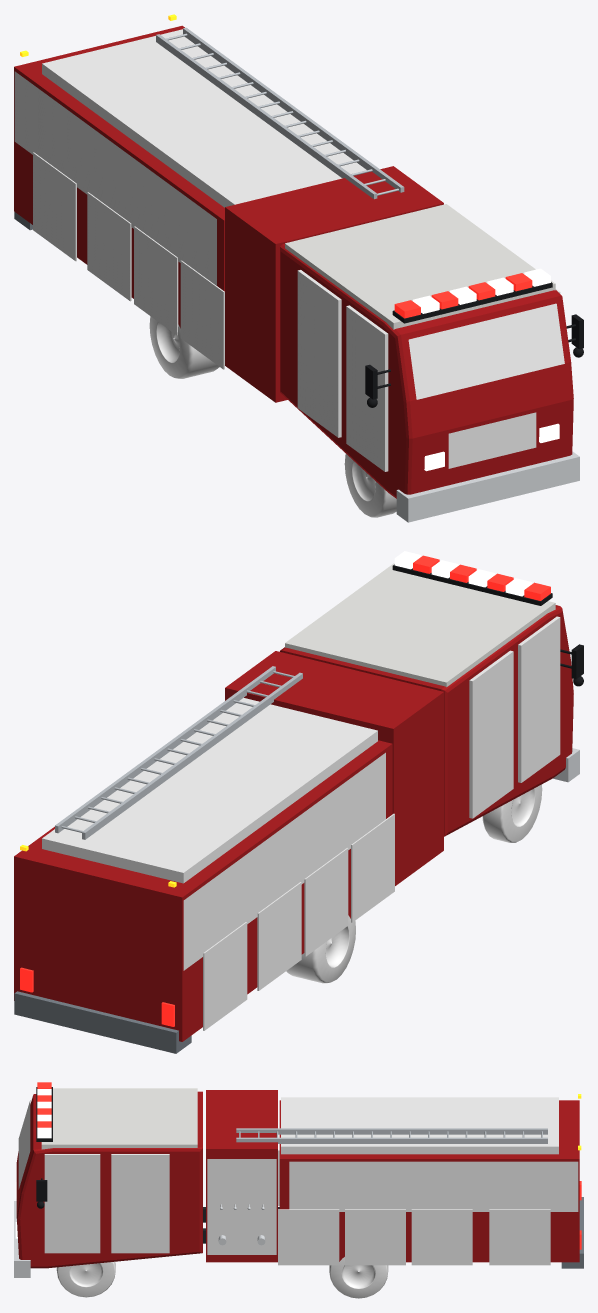
File: fleet--fireEngine.glb
3 renders of one model, top to bottom at view 1: azimuth 30°, elevation 25°; view 2: azimuth 150°, elevation 25°; view 3: azimuth 270°, elevation 25°, orthographic. The views are drawn at different scales.
Visible parts, largest first — view 1: fireEngine:shell, hoseBed, compartments, doorCrewR, doorR, ladder, warningLights, axle2, wheelFR, headlights; view 2: fireEngine:shell, hoseBed, compartments, doorCrewR, doorR, ladder, warningLights, axle2, wheelFR, tailLights; view 3: fireEngine:shell, compartments, hoseBed, pumpPanel, doorCrewL, doorL, ladder, axle2, wheelFL, warningLights, mirrorL.
Part boxes in pixels (box(x1,y1,x2,y2)): fireEngine:shell: box(14, 25, 579, 522); hoseBed: box(42, 29, 366, 207); compartments: box(33, 152, 224, 369); doorCrewR: box(297, 270, 341, 437); doorR: box(346, 305, 388, 471); ladder: box(156, 27, 404, 199); warningLights: box(392, 268, 552, 323); axle2: box(149, 316, 219, 378); wheelFR: box(344, 454, 396, 517); headlights: box(424, 423, 559, 471); fireEngine:shell: box(14, 563, 579, 1053); hoseBed: box(42, 697, 377, 883); compartments: box(203, 813, 394, 1030); doorCrewR: box(469, 650, 513, 818); doorR: box(518, 616, 560, 782); ladder: box(55, 666, 302, 839); warningLights: box(392, 551, 552, 605); axle2: box(286, 915, 355, 983); wheelFR: box(482, 784, 542, 842); tailLights: box(20, 967, 174, 1026); fireEngine:shell: box(14, 1088, 583, 1277); compartments: box(278, 1150, 550, 1265); hoseBed: box(281, 1097, 558, 1154); pumpPanel: box(207, 1159, 276, 1254); doorCrewL: box(111, 1154, 169, 1253); doorL: box(44, 1154, 100, 1253); ladder: box(236, 1128, 547, 1143); axle2: box(329, 1257, 388, 1298); wheelFL: box(56, 1261, 115, 1297); warningLights: box(36, 1082, 52, 1141); mirrorL: box(36, 1178, 47, 1208).
Size of the model in its own units: 3.2 by 3.23 by 10.25.
